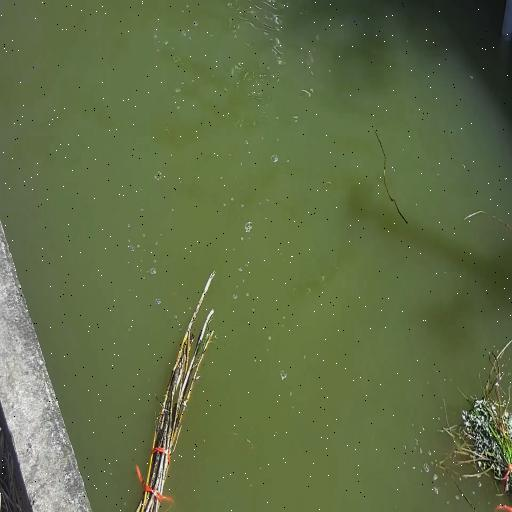twig: (132, 267, 220, 512), (438, 342, 512, 512)
